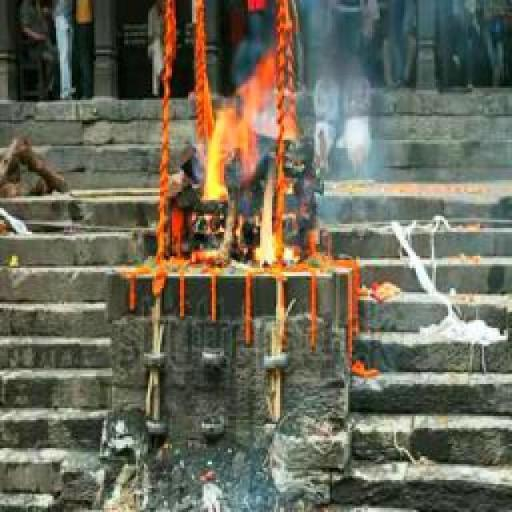smoke: (206, 51, 282, 262)
